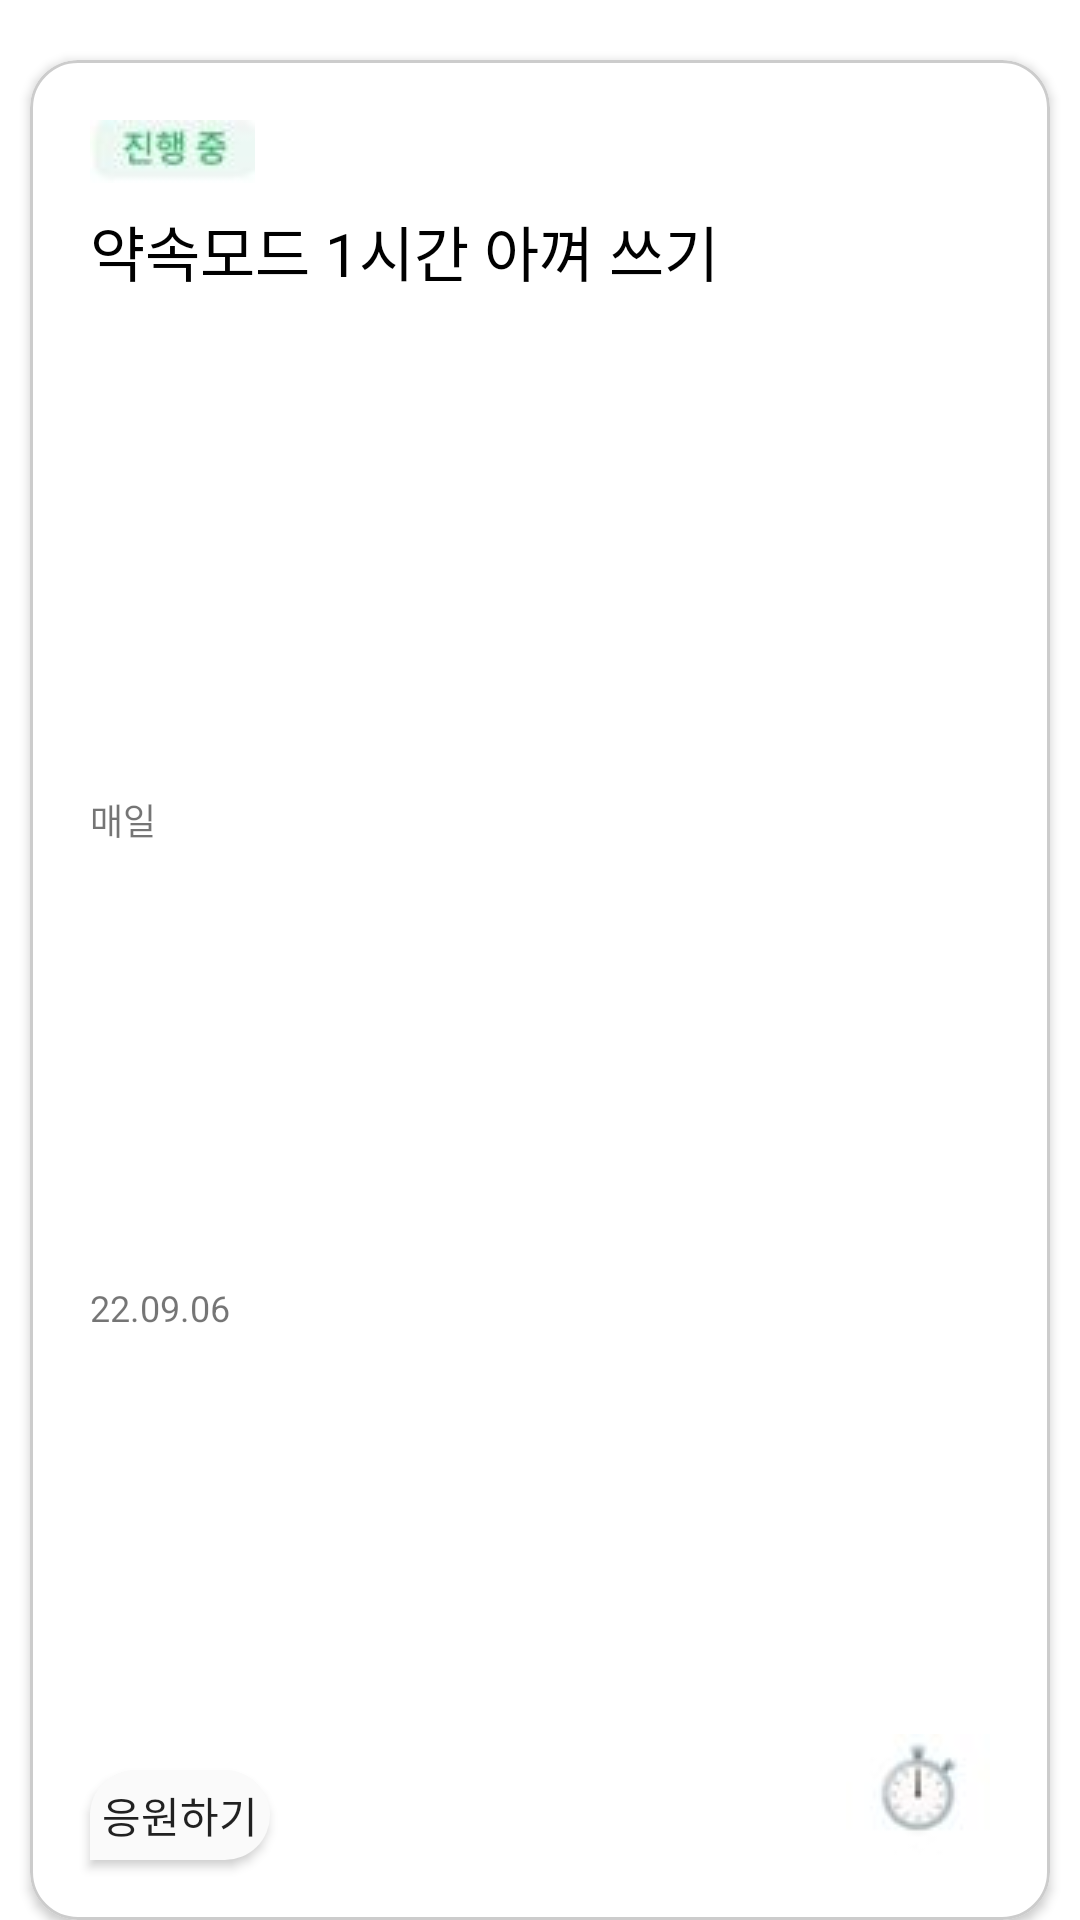

Screen size 1080*1920. Icon name, then its box in pixels as (x1, y1, x2, y2):
time: (882, 1745, 956, 1831)
